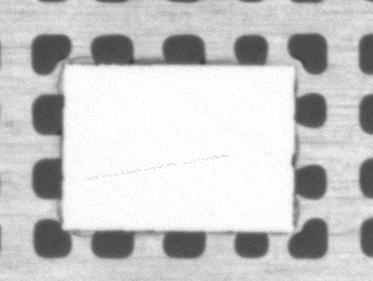DIE_CRACK: (117, 117, 303, 135)
